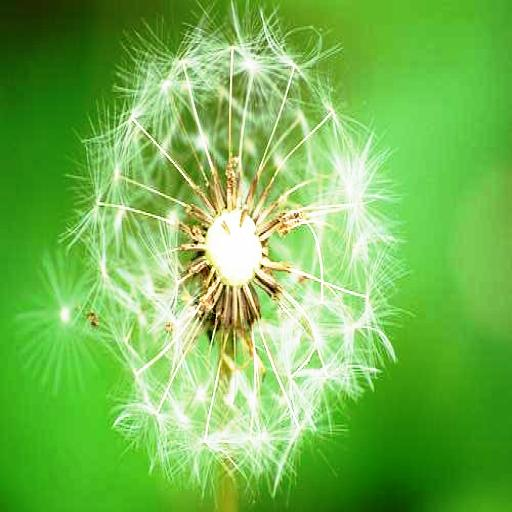dandelion: (40, 3, 408, 512)
